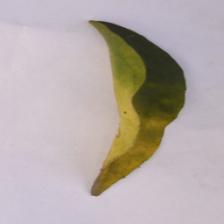greening: (107, 109, 174, 190)
